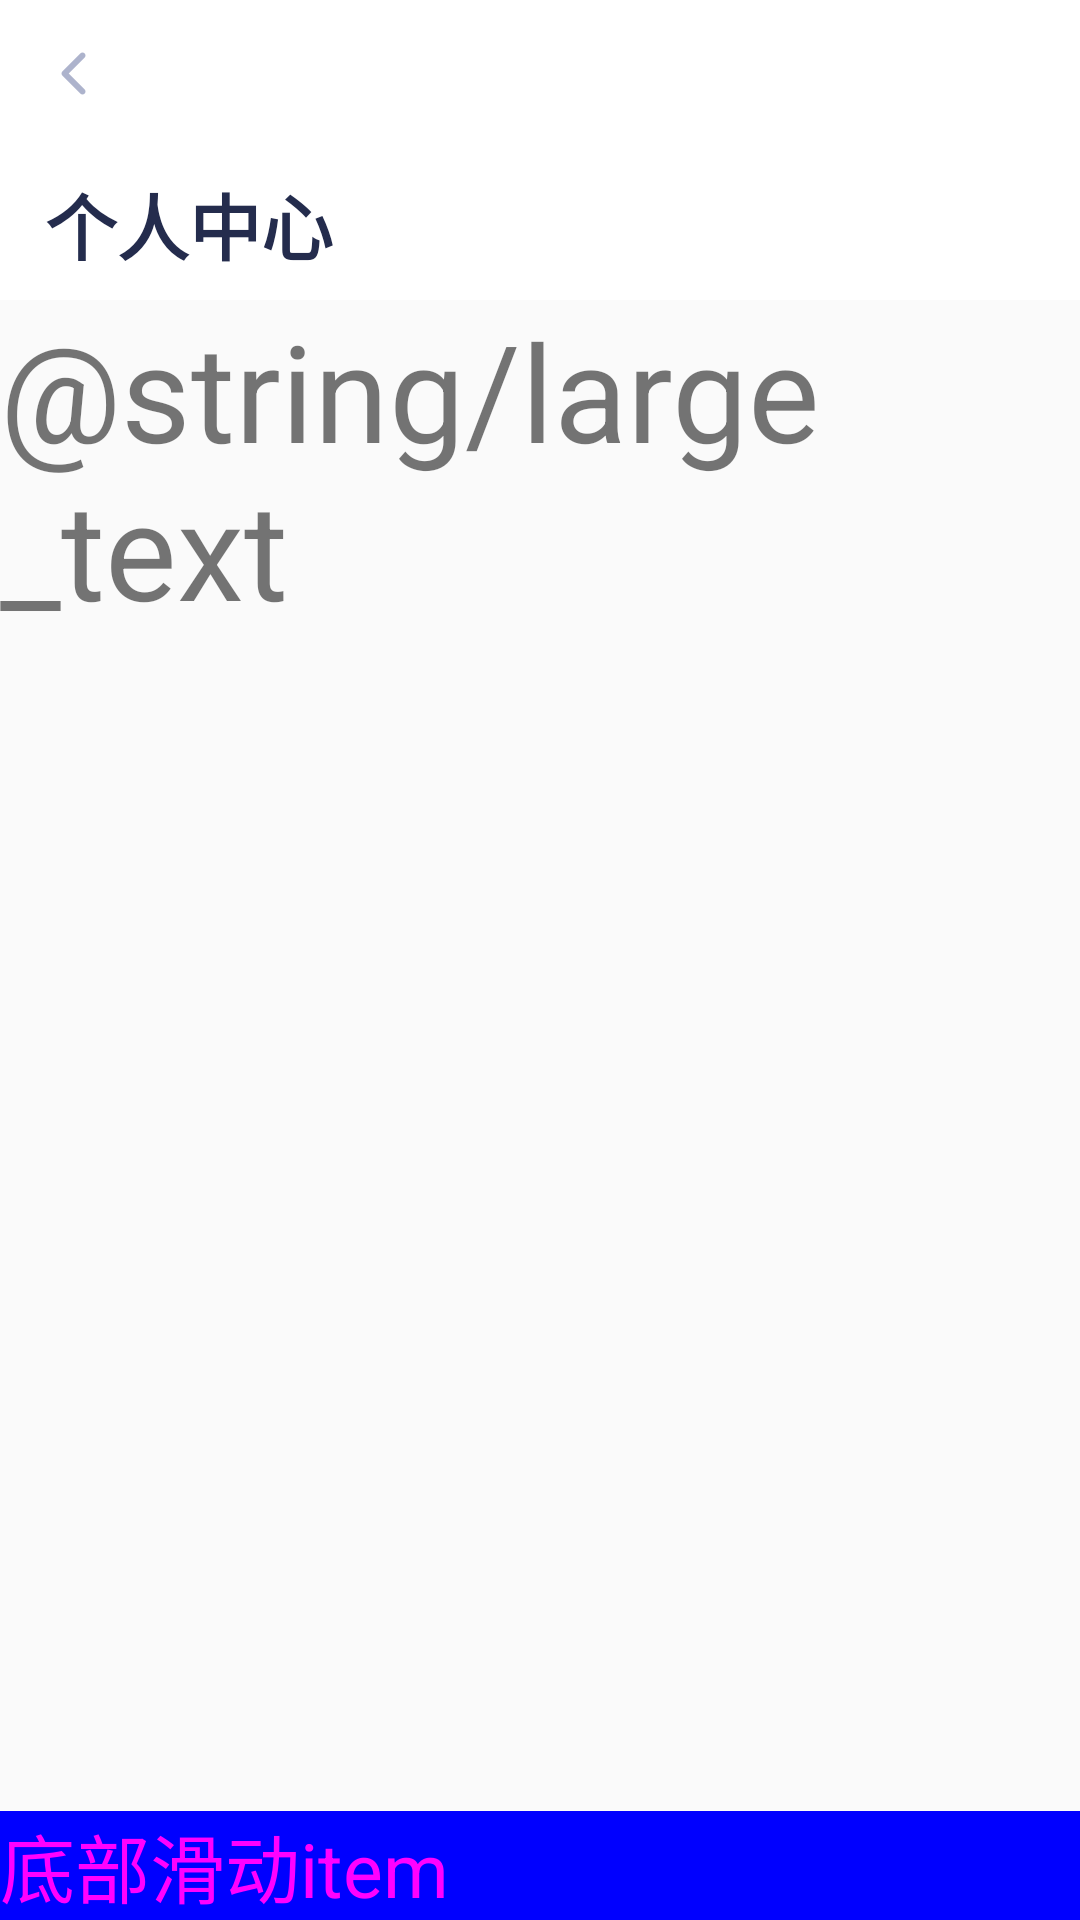

Icons on this 1080x1920 Android screen, each with its box as bbox(x1, y1, x2, y2):
back: bbox(61, 52, 86, 95)
